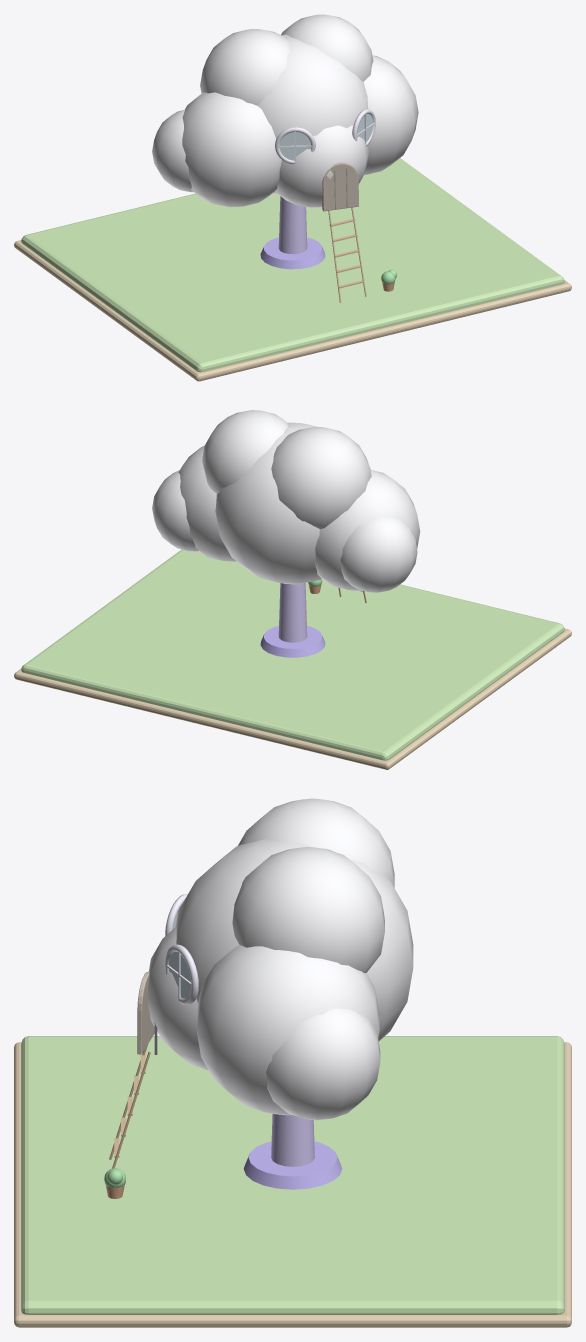
File: building_sky_L05.glb
3 renders of one model, top to bottom at view 1: azimuth 30°, elevation 25°; view 2: azimuth 150°, elevation 25°; view 3: azimuth 270°, elevation 25°, orthographic. The views are drawn at different scales.
Parts seen in each view (by area): view 1: sky_L5, Body; view 2: sky_L5, Body; view 3: sky_L5, Body.
Part boxes in pixels (bbox=[...]): sky_L5: bbox=[14, 158, 571, 381]; Body: bbox=[152, 14, 418, 302]; sky_L5: bbox=[14, 549, 571, 769]; Body: bbox=[152, 410, 420, 657]; sky_L5: bbox=[14, 1036, 571, 1327]; Body: bbox=[109, 798, 413, 1189].
Size of the model in its own units: 26.61 by 16.17 by 22.6.
